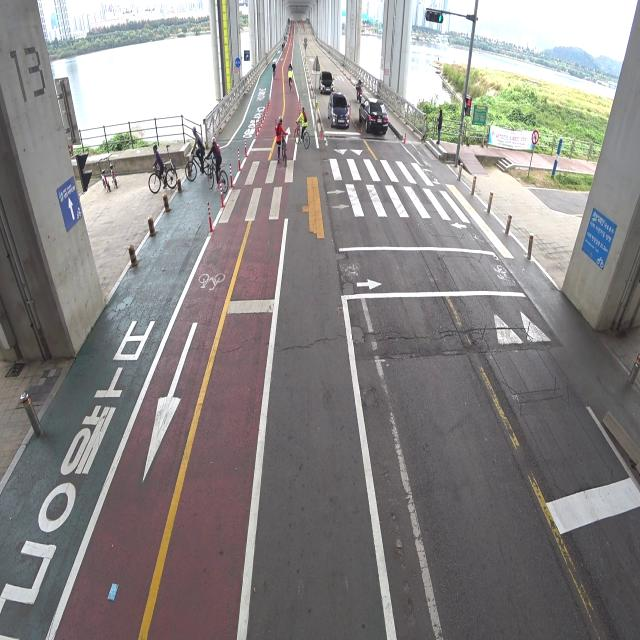Car: (358, 88, 392, 138), (328, 94, 350, 134), (317, 66, 335, 98)
Motorcycle: (355, 77, 363, 106)
